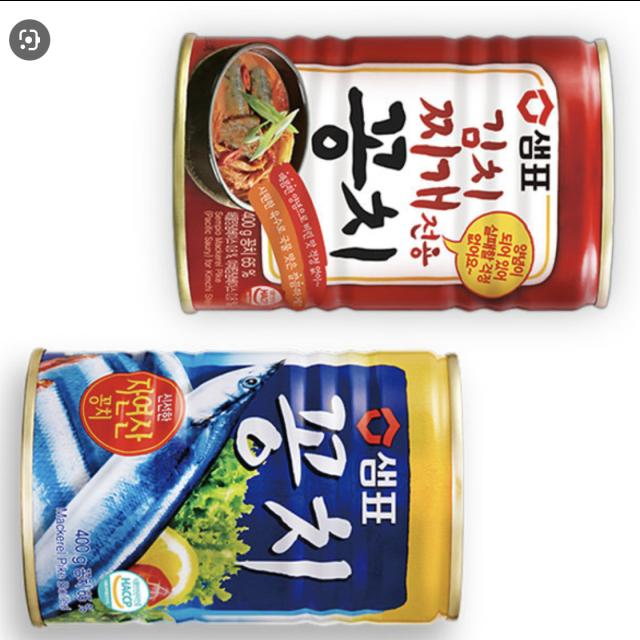can: (16, 333, 488, 638), (161, 28, 628, 324)
